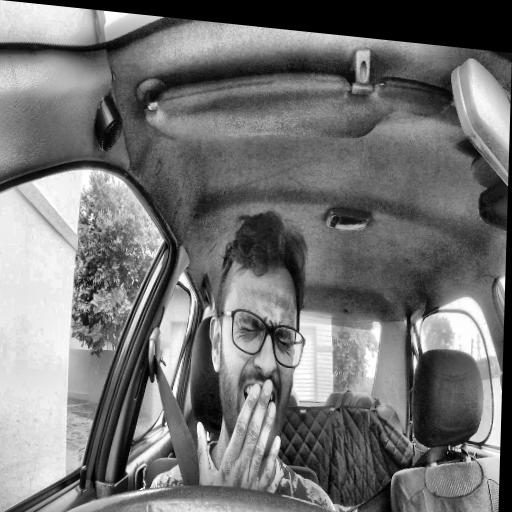drowsy: (204, 204, 308, 465)
